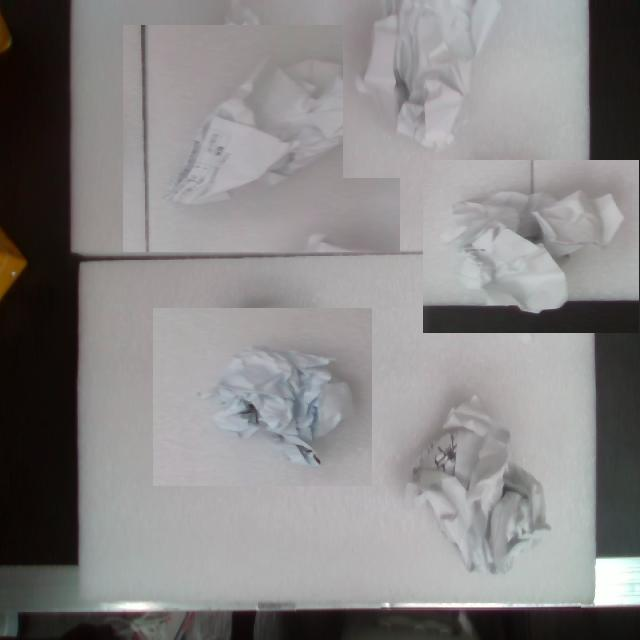paper: (122, 21, 400, 305), (356, 363, 598, 610), (152, 287, 380, 507), (422, 113, 640, 334), (306, 0, 524, 178)
